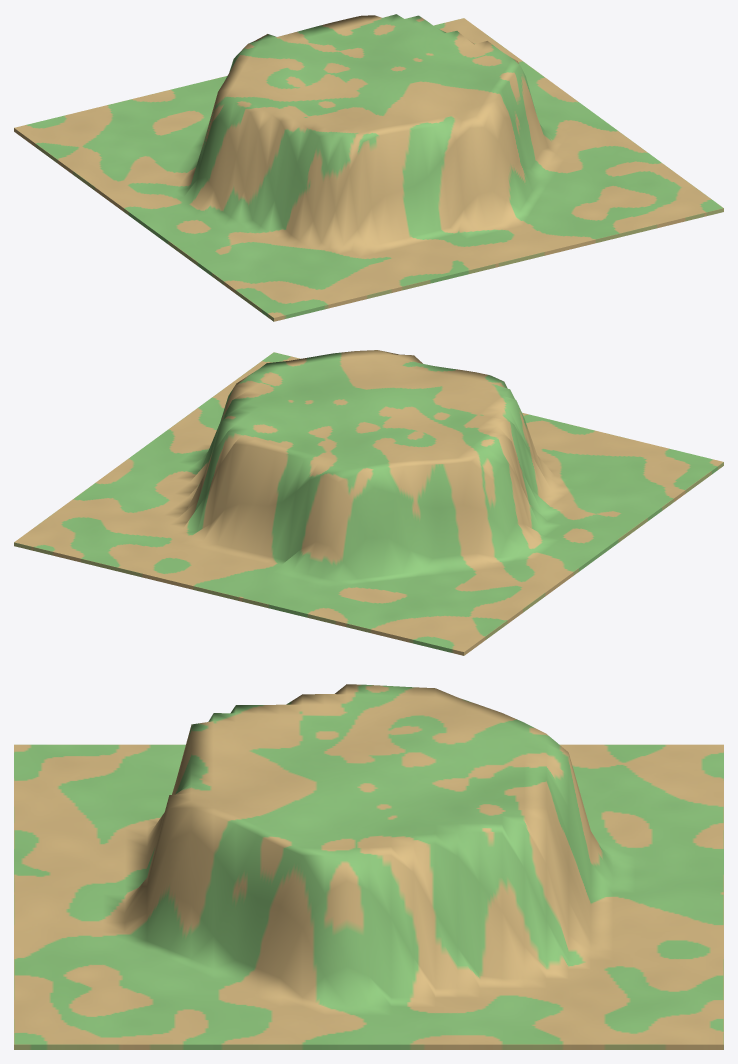
Rendered from Grass_Hills_08.obj.
The picture shows the model from 3 angles, top to bottom: view 1: azimuth 30°, elevation 25°; view 2: azimuth 150°, elevation 25°; view 3: azimuth 270°, elevation 25°; orthographic projection. The views are drawn at different scales.
Size of the model in its own units: 10 by 2.06 by 10.
1 material, 1 textured.
